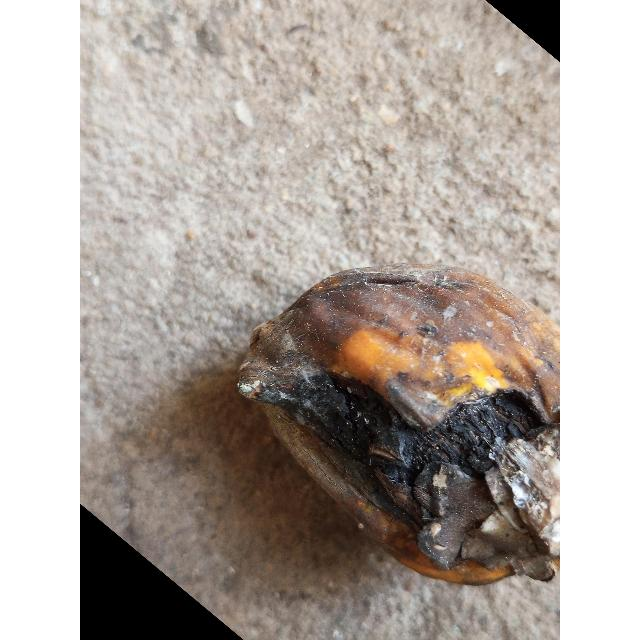damaged: (237, 268, 560, 588)
